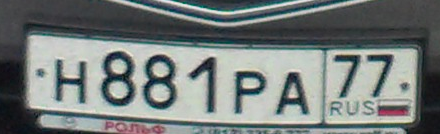character: (139, 48, 179, 113), (99, 44, 138, 110), (188, 51, 223, 115), (52, 55, 90, 108), (275, 67, 312, 121), (232, 66, 268, 118), (330, 51, 363, 98), (366, 50, 397, 100)
